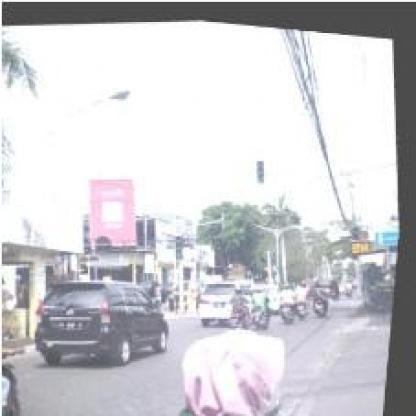green: (175, 229, 188, 255), (256, 152, 268, 178)
